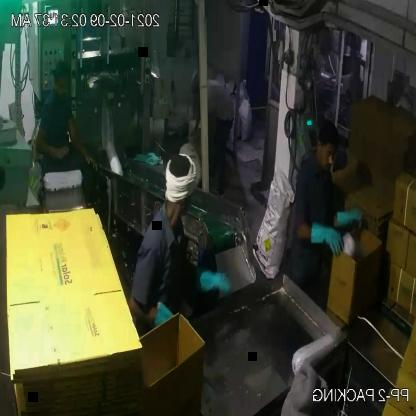glove: (190, 257, 237, 302), (328, 190, 372, 236), (303, 220, 346, 253)
no_glove: (65, 109, 100, 174), (32, 124, 72, 164)
